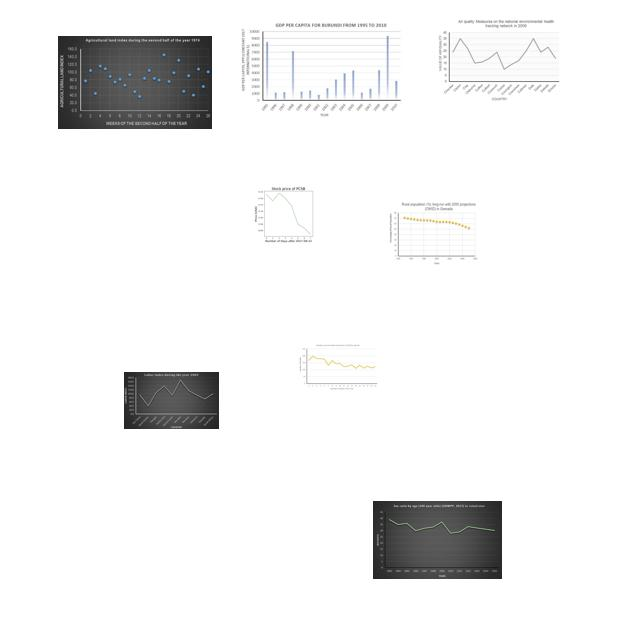Graph: (239, 20, 403, 118), (58, 36, 212, 129), (436, 18, 562, 102), (373, 501, 502, 579), (388, 201, 481, 267), (124, 372, 219, 429), (248, 184, 327, 243), (297, 343, 379, 392)
